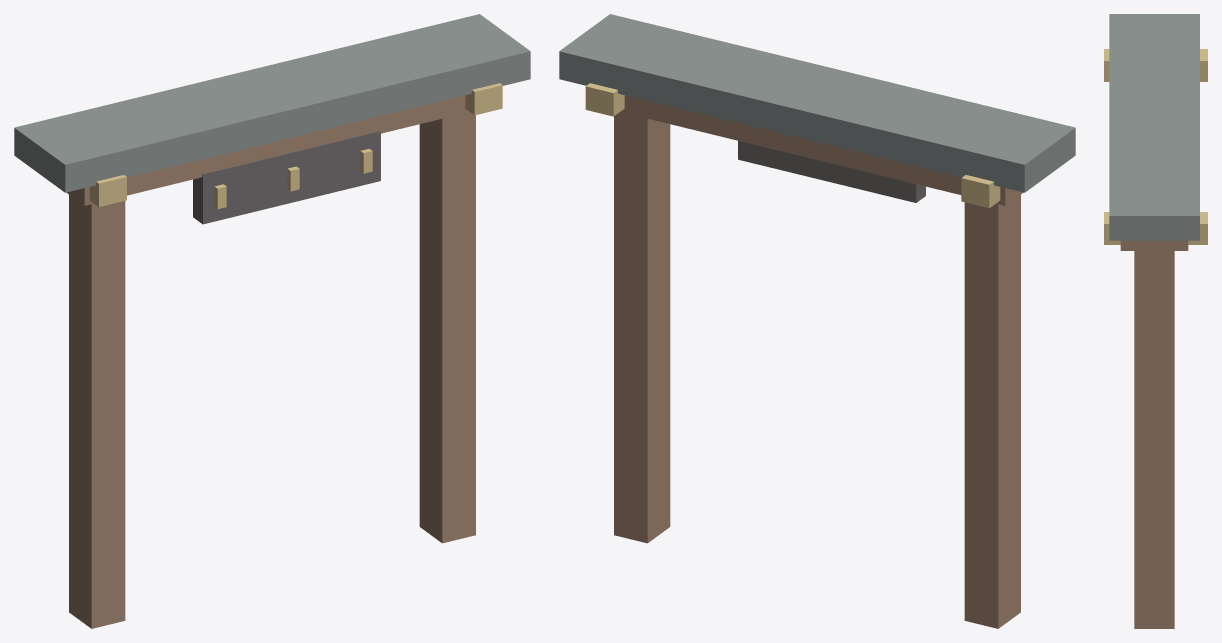
The model's file is courtyard_entry_gate.glb.
3 renders of one model, left to right at view 1: azimuth 30°, elevation 25°; view 2: azimuth 150°, elevation 25°; view 3: azimuth 270°, elevation 25°, orthographic. The views are drawn at different scales.
Parts seen in each view (by area): view 1: box_3, box_0, box_1, box_6, box_2, box_4, box_5; view 2: box_3, box_1, box_0, box_2, box_6, box_5, box_4; view 3: box_3, box_1, box_2, box_5, box_4.
Part boxes in pixels (left/top/right/bottom): box_3: left=14, top=14, right=530, bottom=192; box_0: left=69, top=195, right=125, bottom=628; box_1: left=419, top=112, right=475, bottom=543; box_6: left=193, top=131, right=380, bottom=224; box_2: left=66, top=95, right=469, bottom=205; box_4: left=89, top=175, right=126, bottom=206; box_5: left=465, top=83, right=502, bottom=115; box_3: left=559, top=14, right=1075, bottom=192; box_1: left=614, top=112, right=670, bottom=543; box_0: left=964, top=195, right=1020, bottom=628; box_2: left=620, top=95, right=1023, bottom=205; box_6: left=738, top=141, right=925, bottom=202; box_5: left=585, top=83, right=624, bottom=116; box_4: left=961, top=175, right=1000, bottom=208; box_3: left=1109, top=14, right=1199, bottom=240; box_1: left=1134, top=251, right=1174, bottom=628; box_2: left=1120, top=240, right=1188, bottom=250; box_5: left=1104, top=212, right=1207, bottom=244; box_4: left=1104, top=49, right=1207, bottom=81.
Size of the model in its own units: 3.32 by 3.3 by 0.72.
